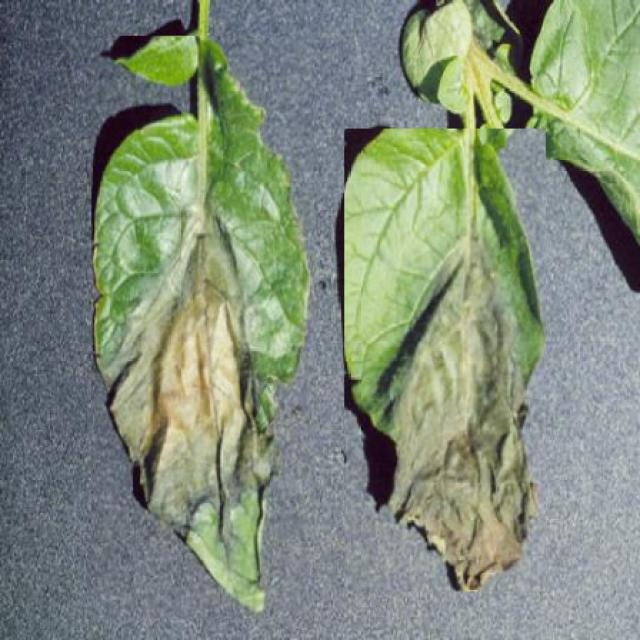Late Blight: (91, 36, 315, 620), (344, 129, 546, 592)
